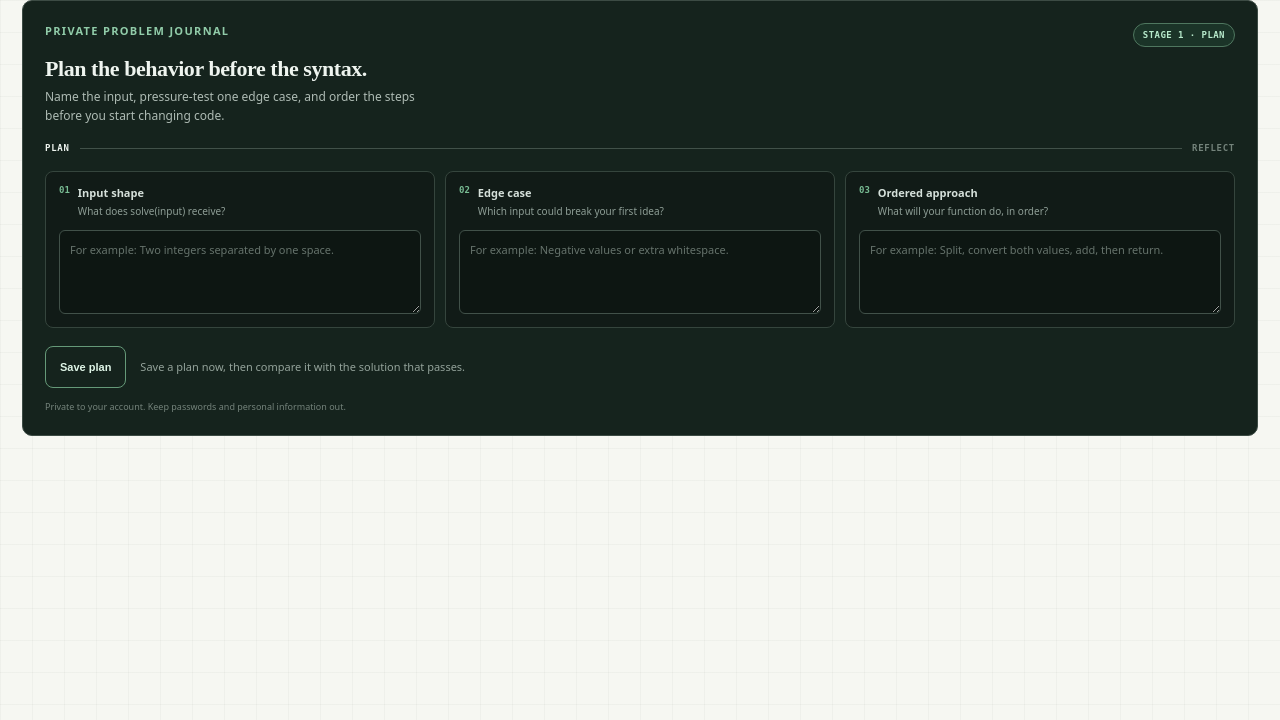
PracticeSolutionNote › requires and saves a structured plan before Accepted
Expected: the text "Stage 1 · Plan" is shown, [1133, 23, 1235, 47]
Type "Two integers separated by one space." into the text box labelled "Input shape". click: [240, 272]
box: [59, 230, 421, 314]
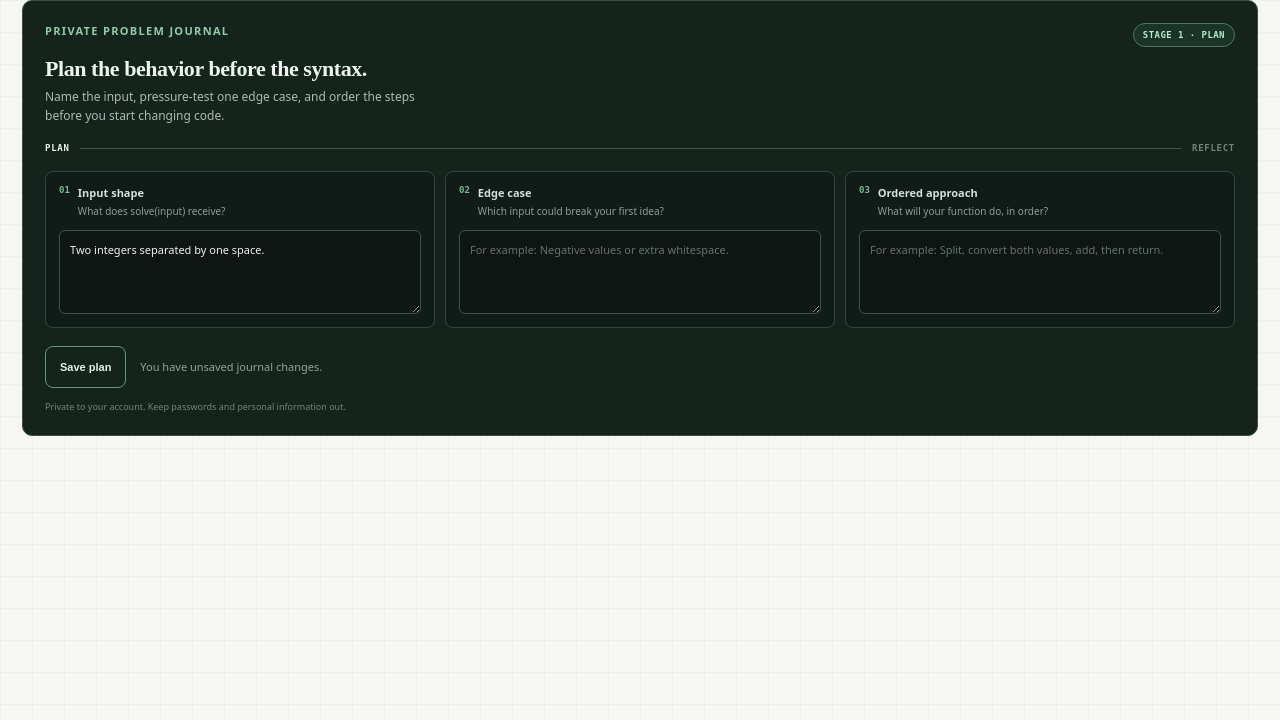
Click the button "Save plan". click: [86, 367]
box: [45, 346, 126, 388]
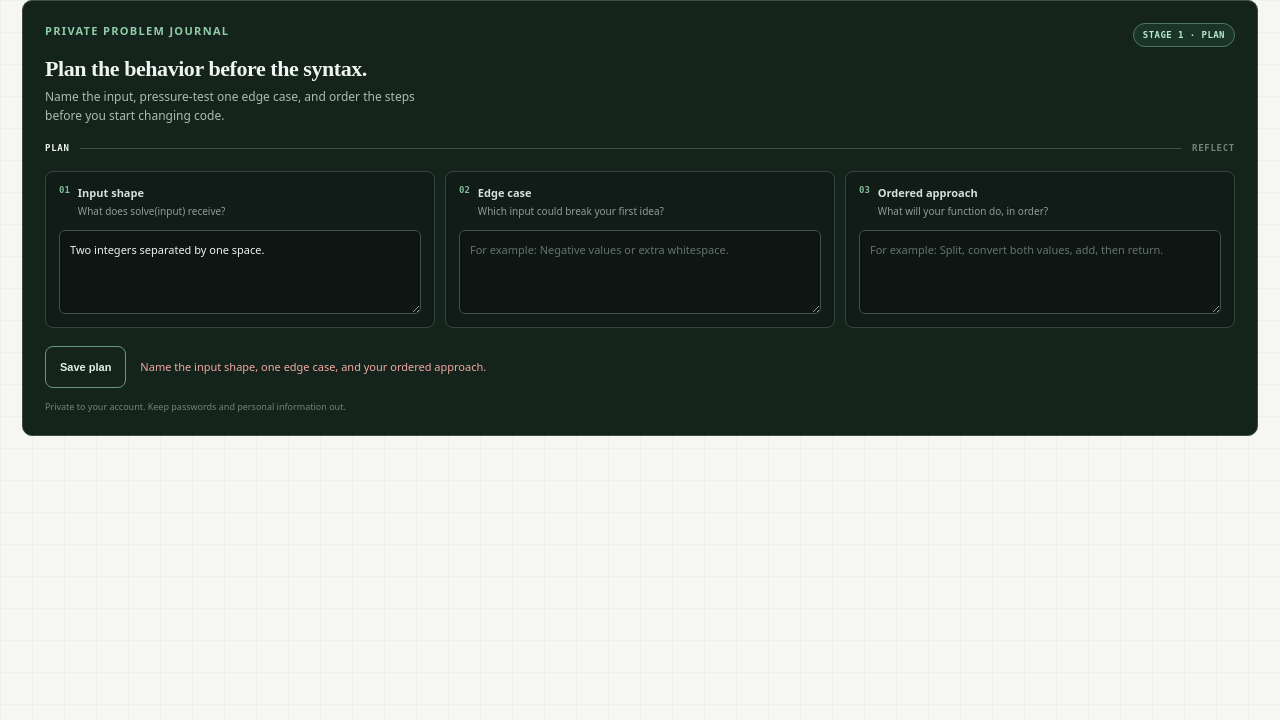
Expected: the text "Name the input shape, one edge case, and your ordered approach." is shown, [140, 359, 486, 375]
Type "Negative values." into the text box labelled "Edge case". click: [640, 272]
box: [459, 230, 821, 314]
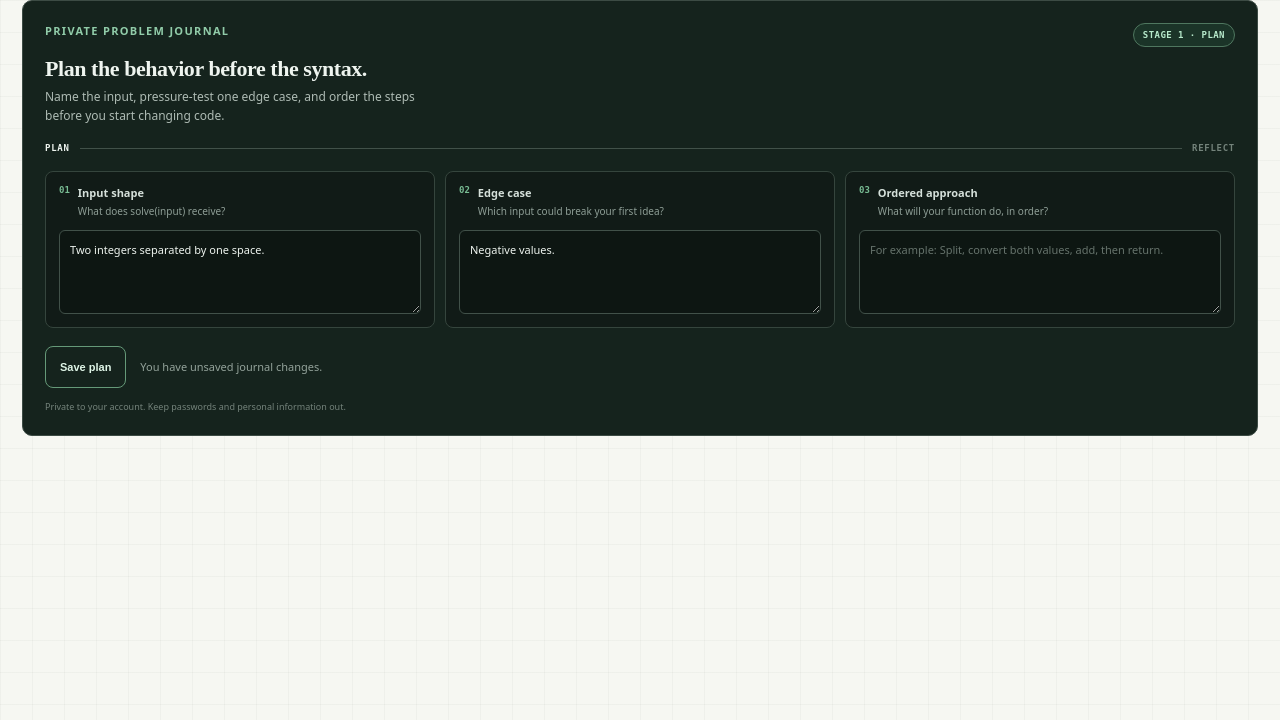
Type "Split, convert both values, add, then return." into the text box labelled "Ordered approach". click: [1040, 272]
box: [859, 230, 1221, 314]
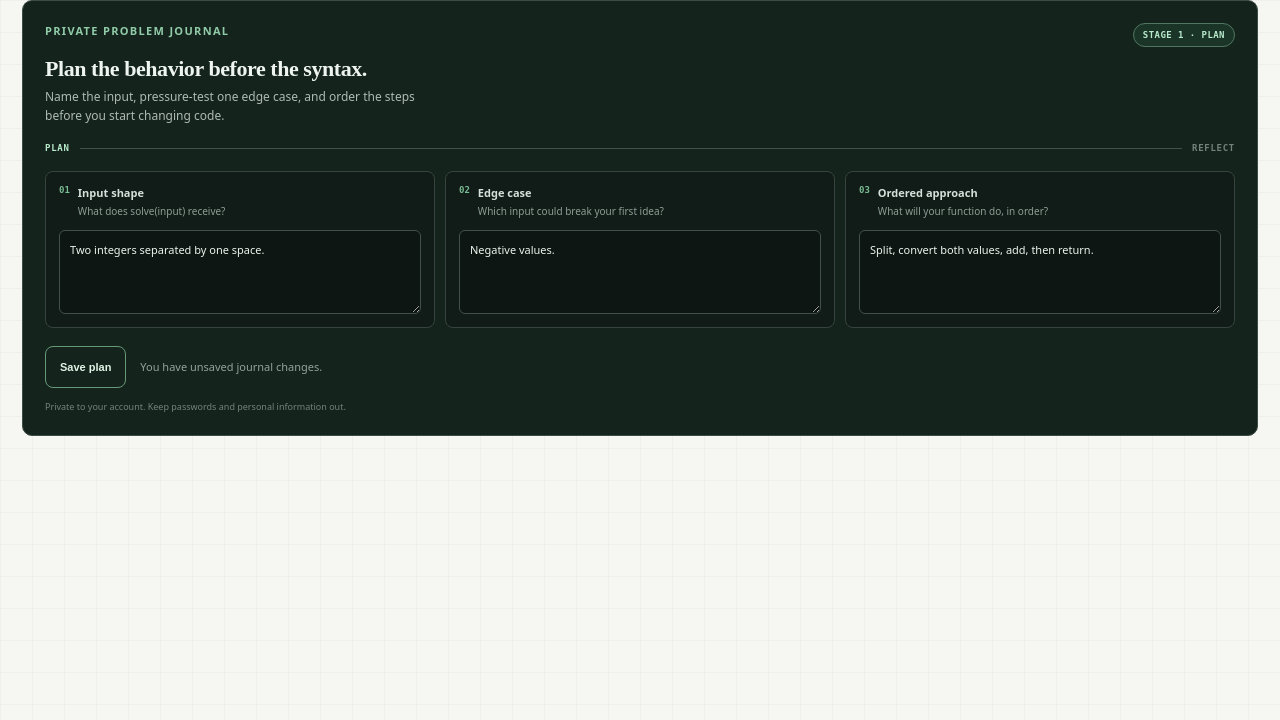
Click the button "Save plan". click: [86, 367]
box: [45, 346, 126, 388]
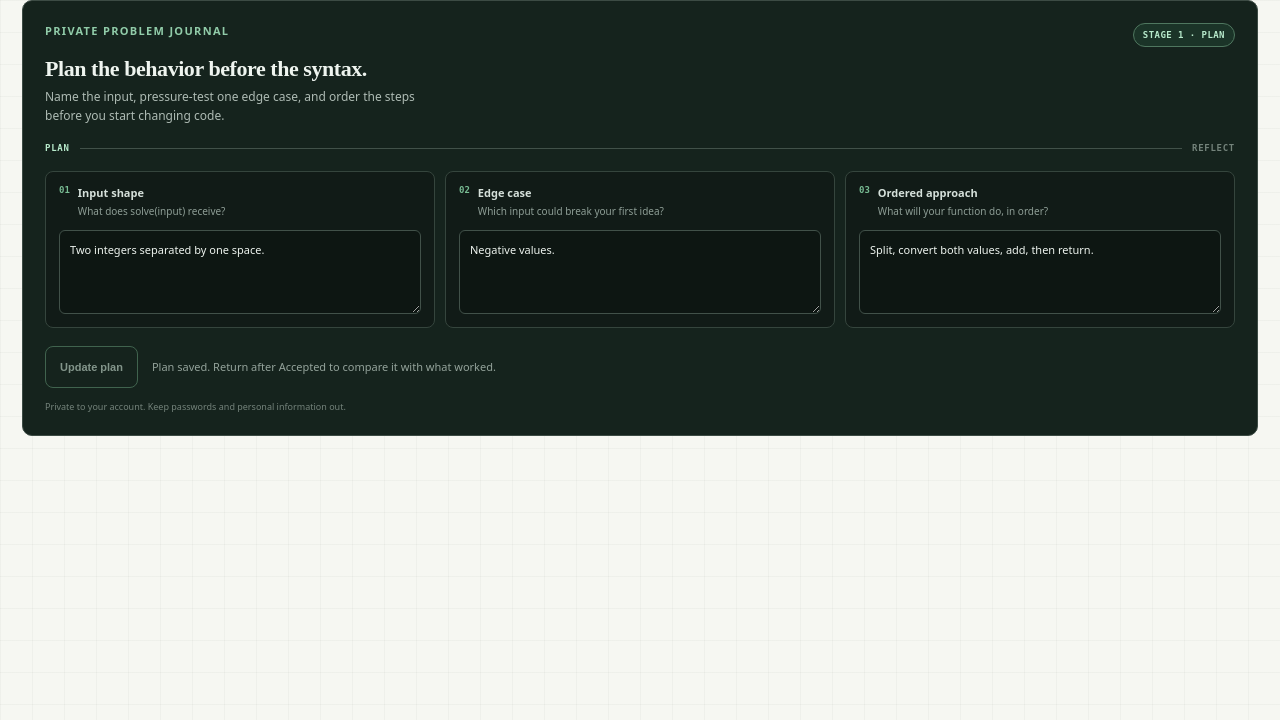
Expected: the text "Plan saved. Return after Accepted to compare it with what worked." is shown, [152, 359, 496, 375]
Expected: the button "Update plan" is disabled, [45, 346, 138, 388]
